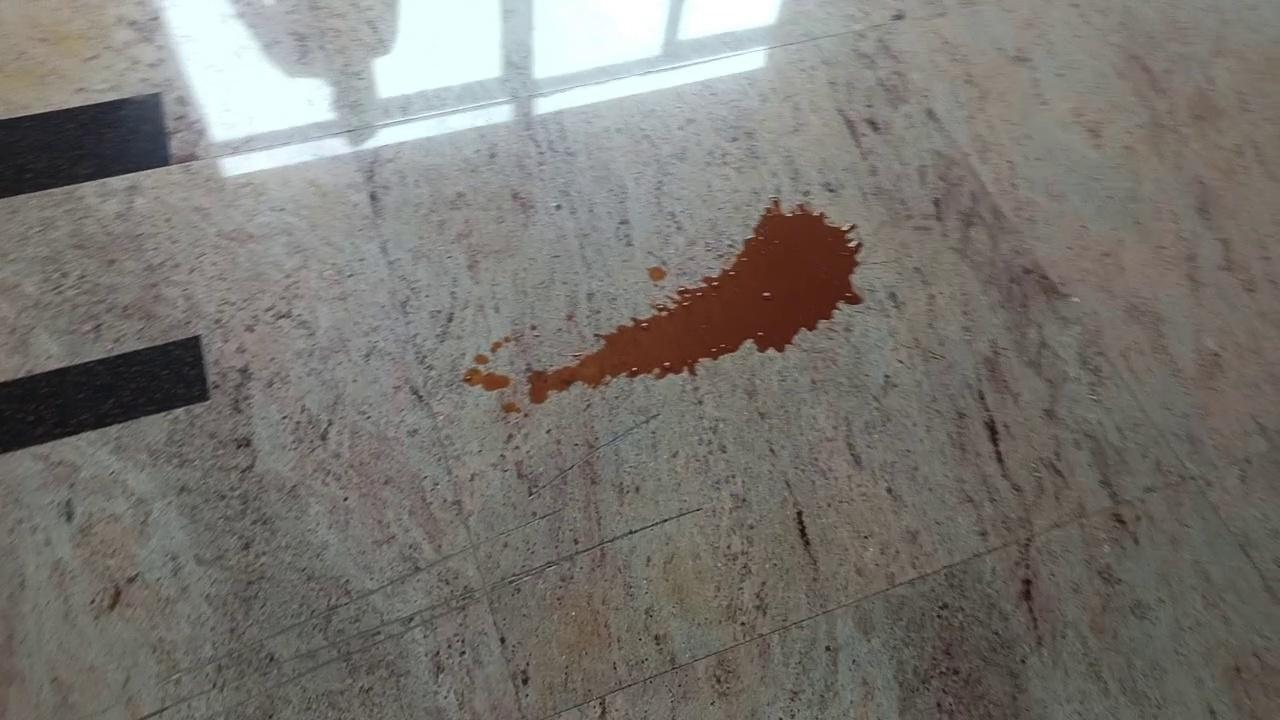dirty_floor: (466, 197, 865, 419)
